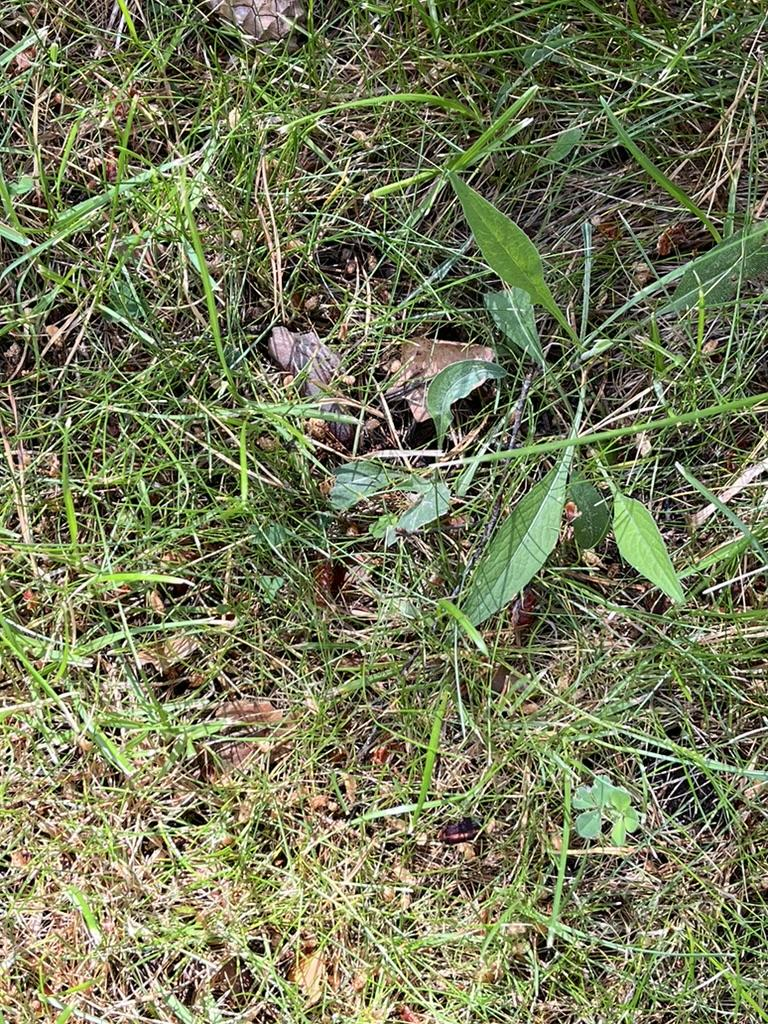pine: (173, 0, 326, 58)
